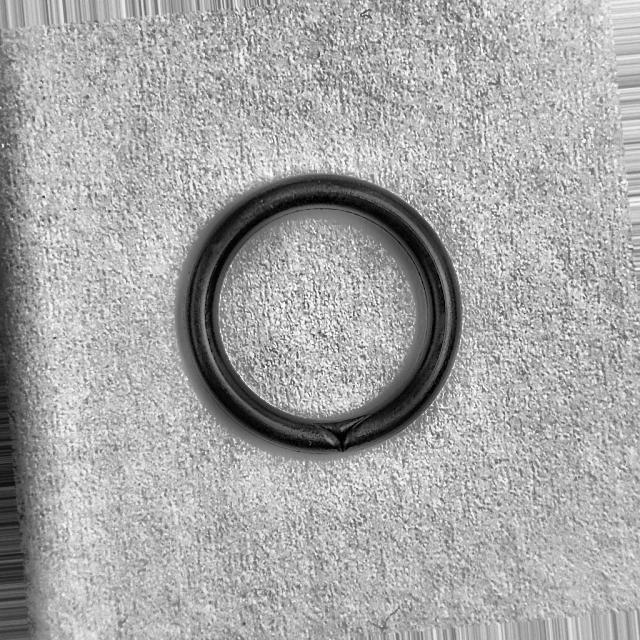切割缺陷: (309, 409, 379, 453)
